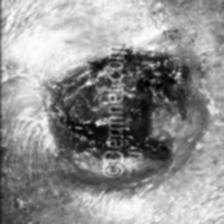Potentially Malignant Skin Tumors: (119, 46, 194, 192), (46, 55, 100, 192)
